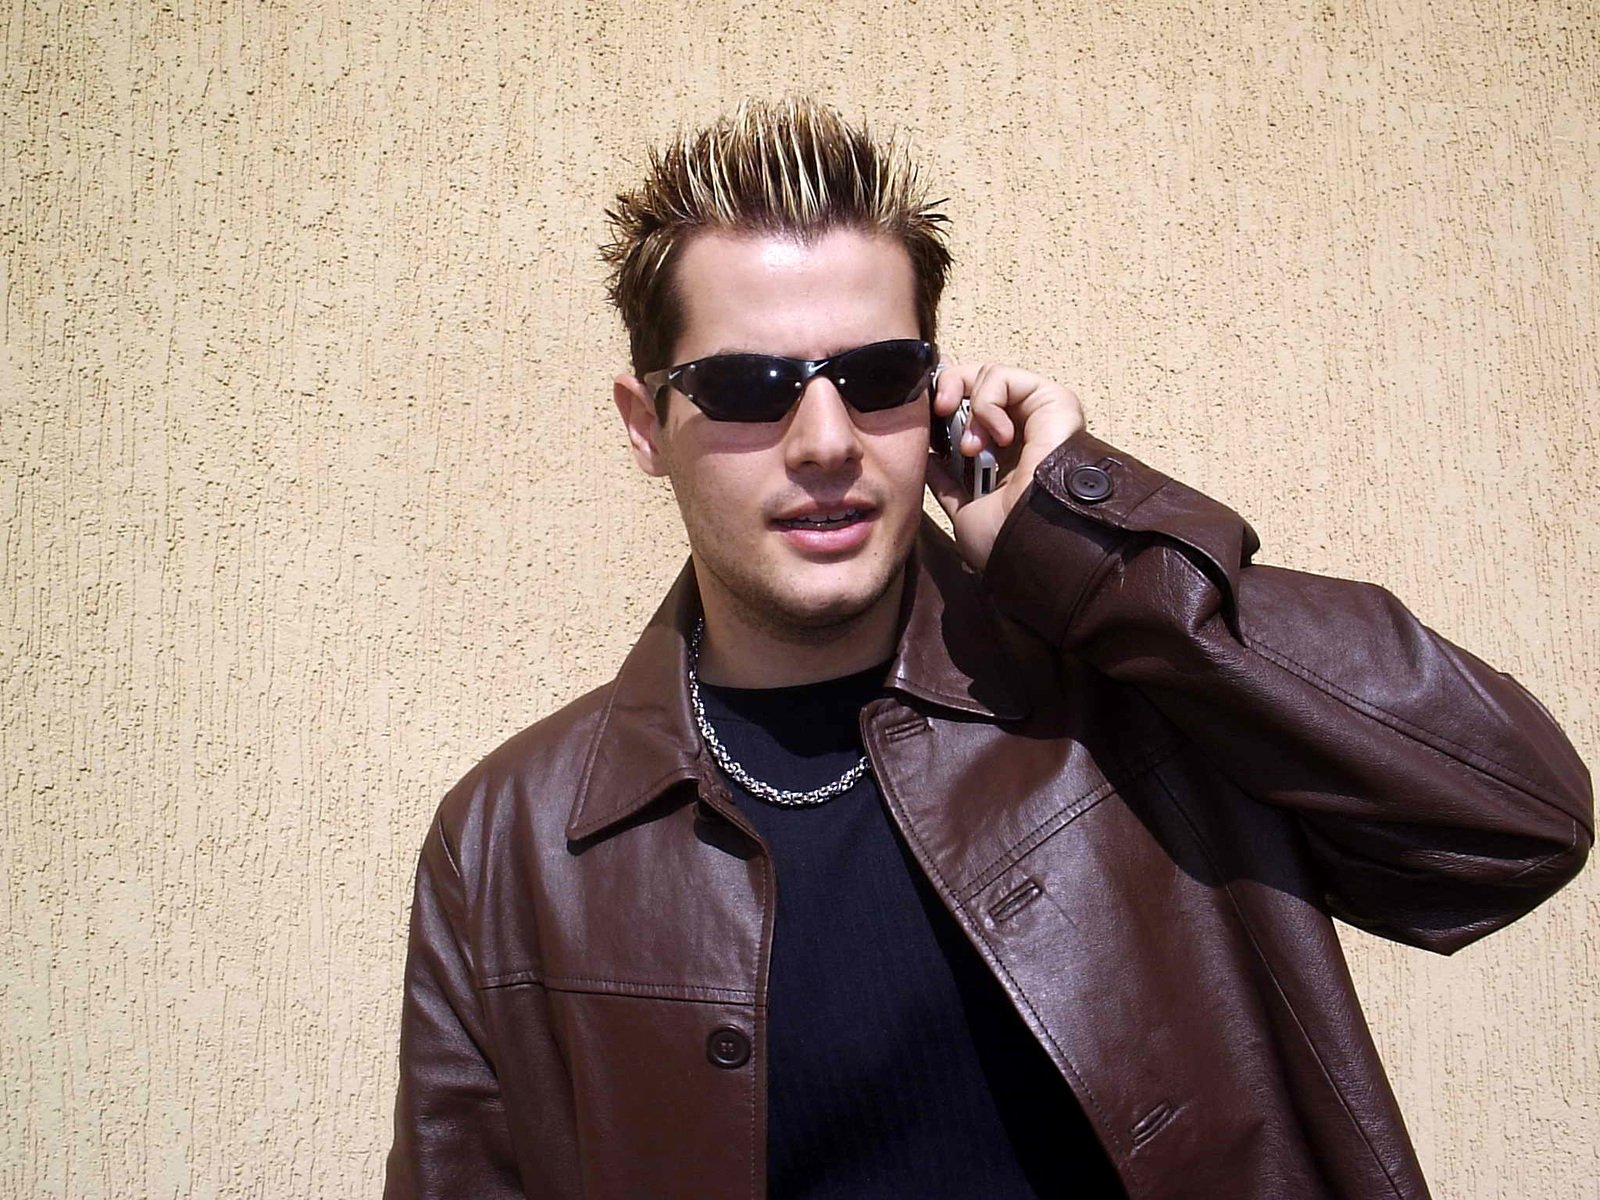phone: (926, 372, 1053, 565)
talk: (687, 320, 1087, 644)
